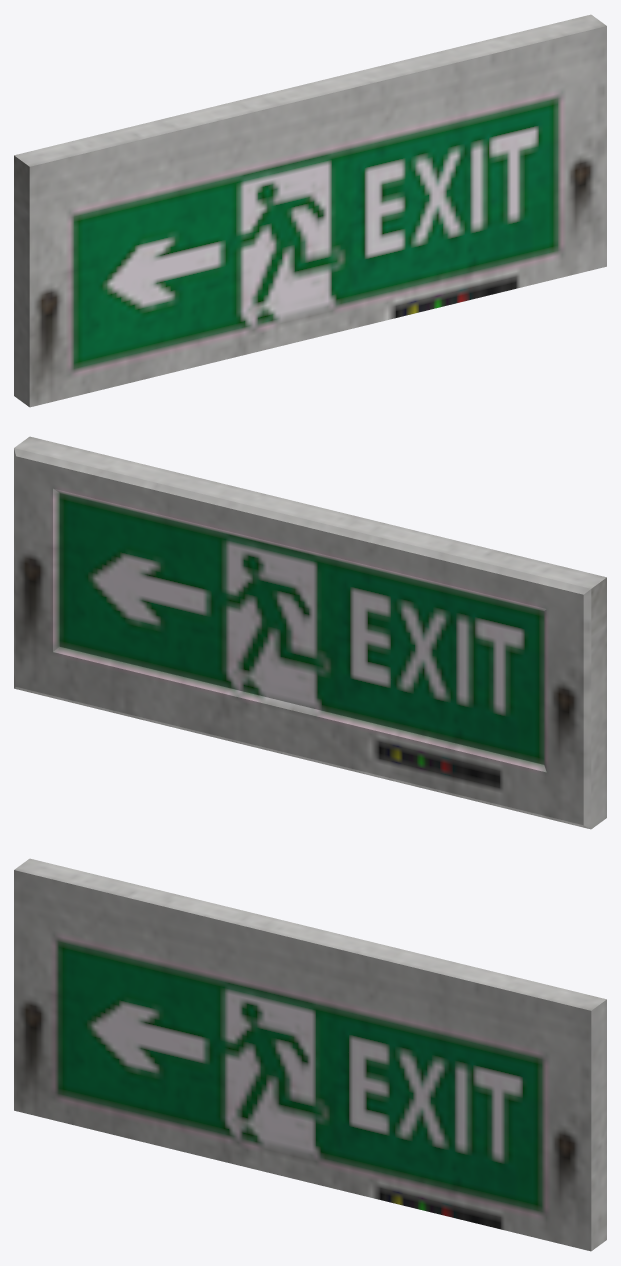
Rendered from Exit_L.FBX.
3 views of the same model, one above another, from view 1: azimuth 30°, elevation 25°; view 2: azimuth 150°, elevation 25°; view 3: azimuth 330°, elevation 25° (orthographic).
Visible parts, largest first — view 1: Exit_L; view 2: Exit_L; view 3: Exit_L.
Boxes of the visible parts, x1=… form: Exit_L: x1=14, y1=14, x2=606, y2=407; Exit_L: x1=14, y1=436, x2=606, y2=829; Exit_L: x1=14, y1=858, x2=606, y2=1251.
Size of the model in its own units: 36 by 2 by 14.34.
Materials: 1 (1 with a texture image).
